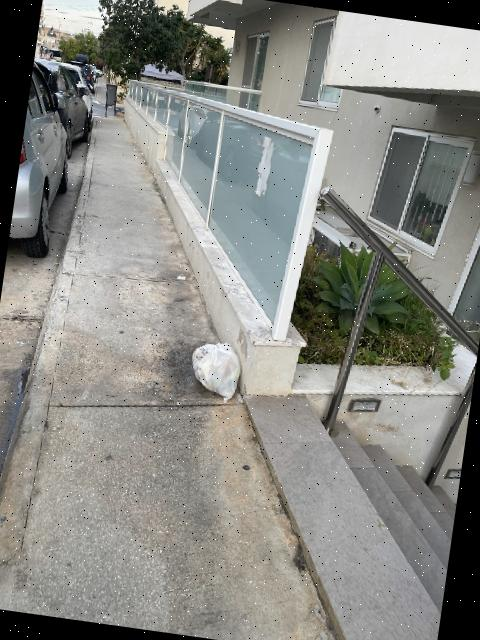Organic -White-: (192, 342, 241, 403)
